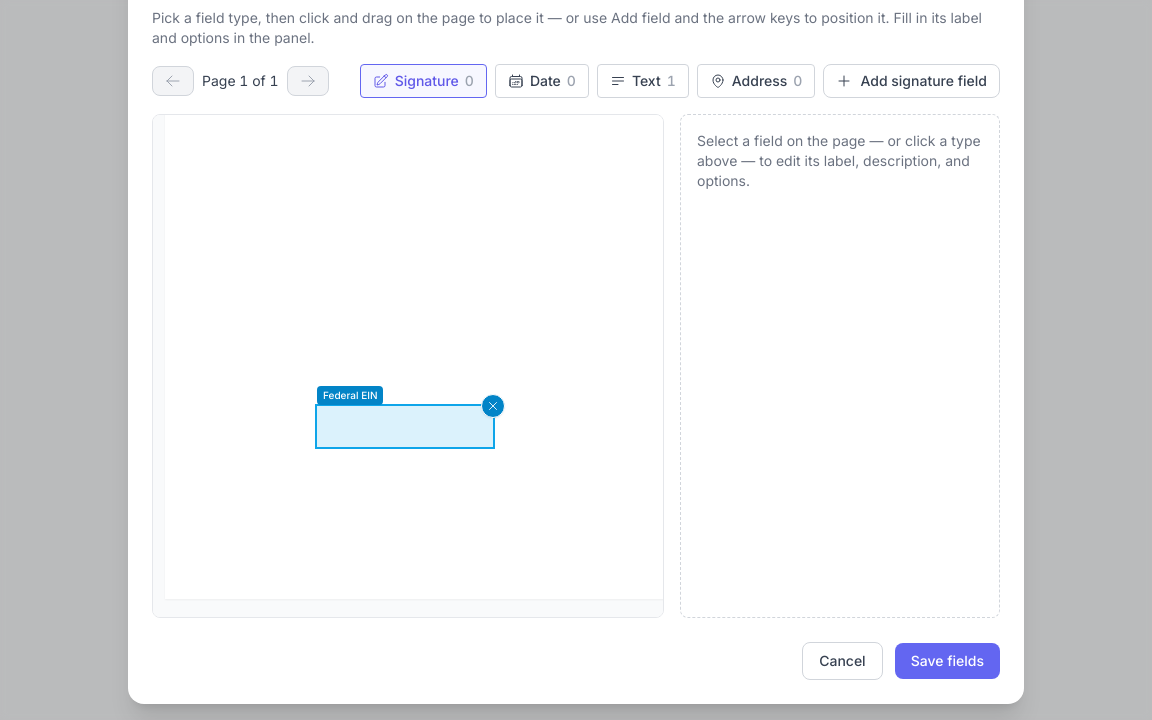
OnboardingTemplateEditor — 409 stale-save handling › surfaces the rejection message and does not re-clear the panel on a failed save
(page scrolled)
Click the button named "Select ": (405, 426) x1=317 y1=406 x2=493 y2=447
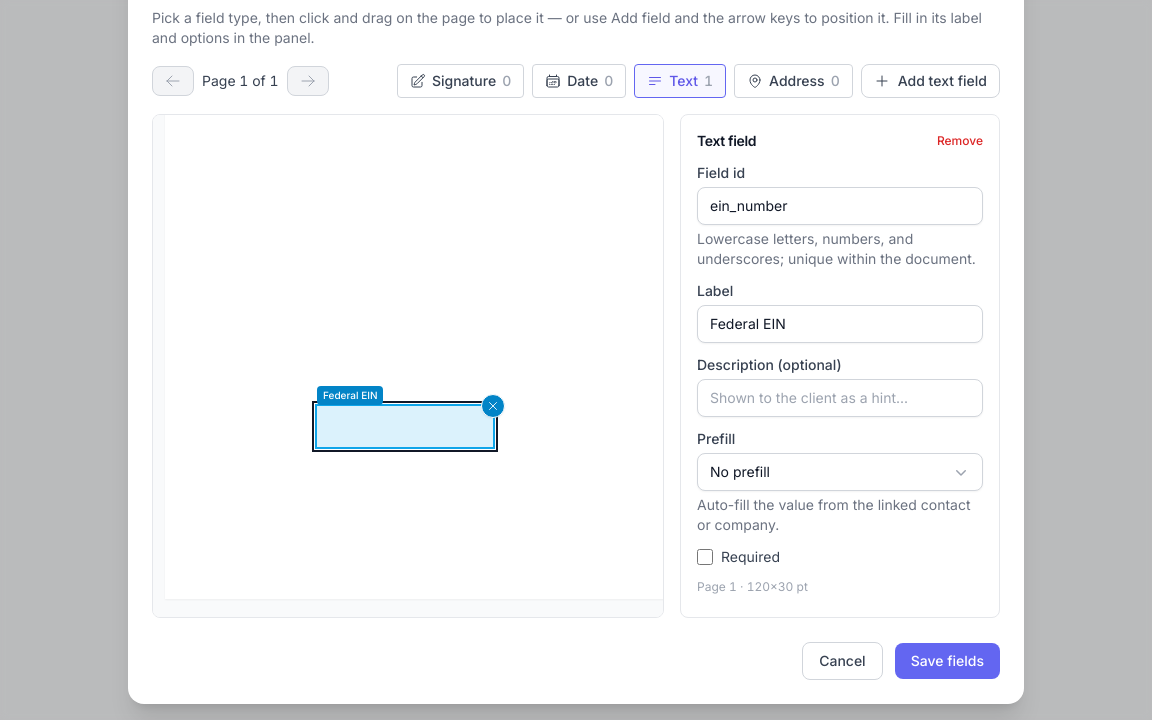
Check: the field labelled "Field id" is shown, box x1=697 y1=187 x2=983 y2=225
Click the button "Save fields": (947, 661) x1=895 y1=643 x2=1000 y2=679
(page scrolled)
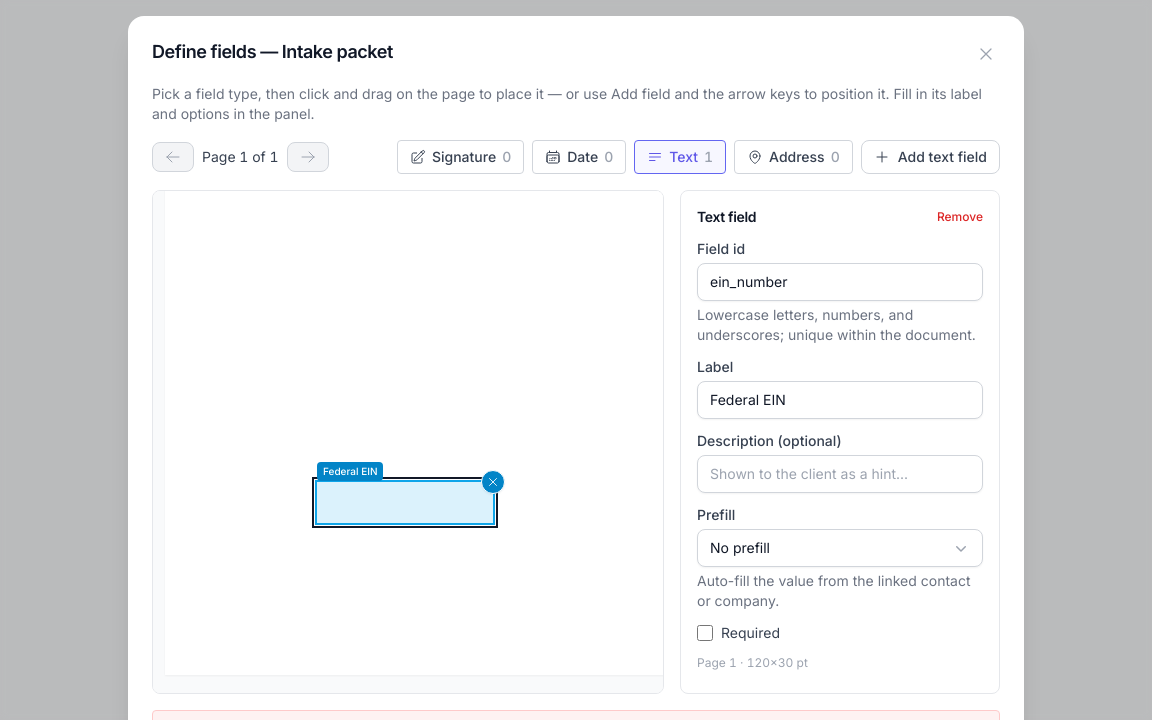
Check: the heading "Define fields — Intake packet" is shown, box x1=152 y1=40 x2=393 y2=64
